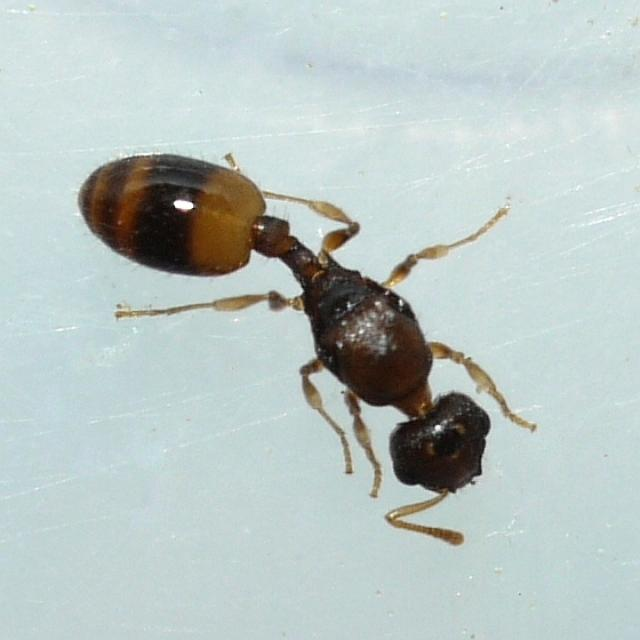Temnothorax: (56, 87, 564, 557)
